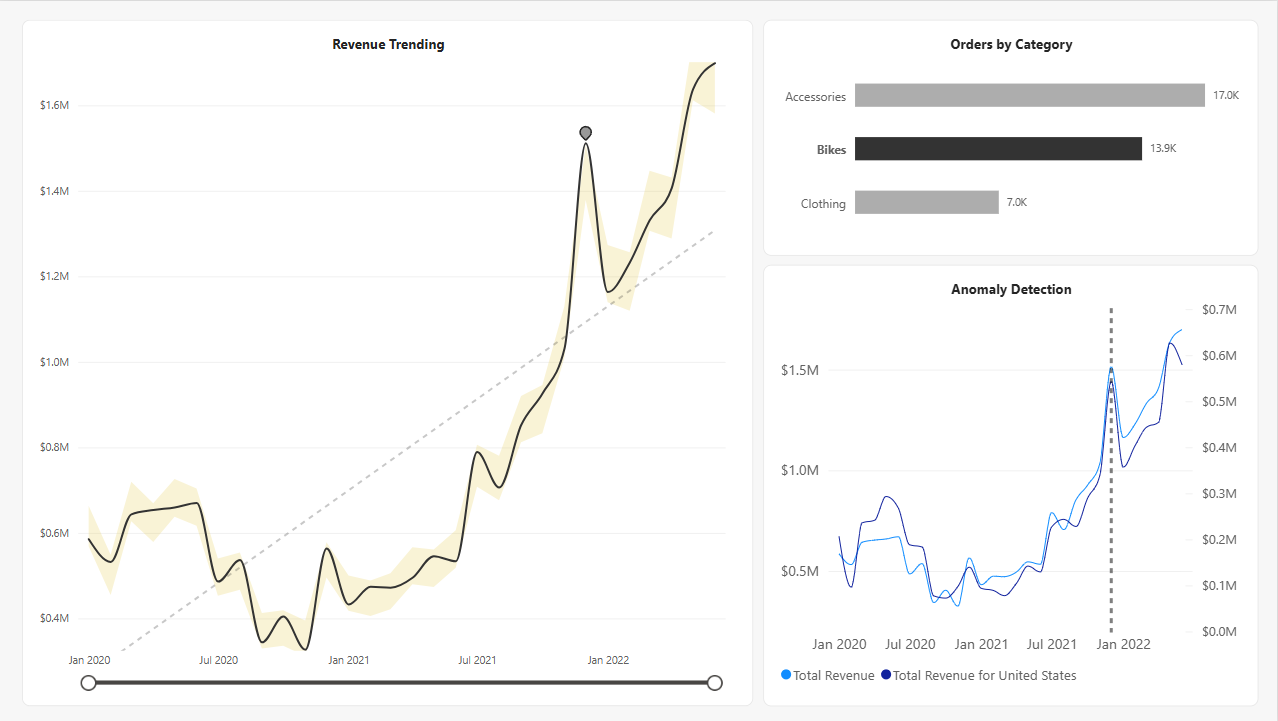

The dashboard page shown, as its layout file describes it:
{"tool":"powerbi","page":{"name":"AI - Anomalies","canvas":[1280,720],"ordinal":6},"visuals":[{"type":"lineChart","title":"Revenue Trending","fields":{"Category":["Calendar Lookup.Start of Month"],"Y":["Measure Table.Total Revenue"]},"box":[25,18.8,731.2,686.2],"z":0},{"type":"clusteredBarChart","title":"Orders by Category","fields":{"Category":["Product Categories Lookup.CategoryName"],"Y":["Measure Table.Total Orders"]},"box":[766.2,18.8,495,236.2],"z":1000},{"type":"lineChart","title":"Anomaly Detection","fields":{"Category":["Calendar Lookup.Start of Month"],"Y":["Measure Table.Total Revenue"],"Y2":["FilteredEval(Measure Table.Total Revenue, [{Condition(expr)}])"]},"box":[766.2,263.8,495,441.2],"z":2000}]}

Visuals, with their boxes in screenshot pixels (x1, y1, x2, y2), scaled from the page's 1280x720 canvas onto the 1278x721 screenshot:
"Revenue Trending" lineChart: left=25, top=19, right=755, bottom=706
"Orders by Category" clusteredBarChart: left=765, top=19, right=1259, bottom=255
"Anomaly Detection" lineChart: left=765, top=264, right=1259, bottom=706
